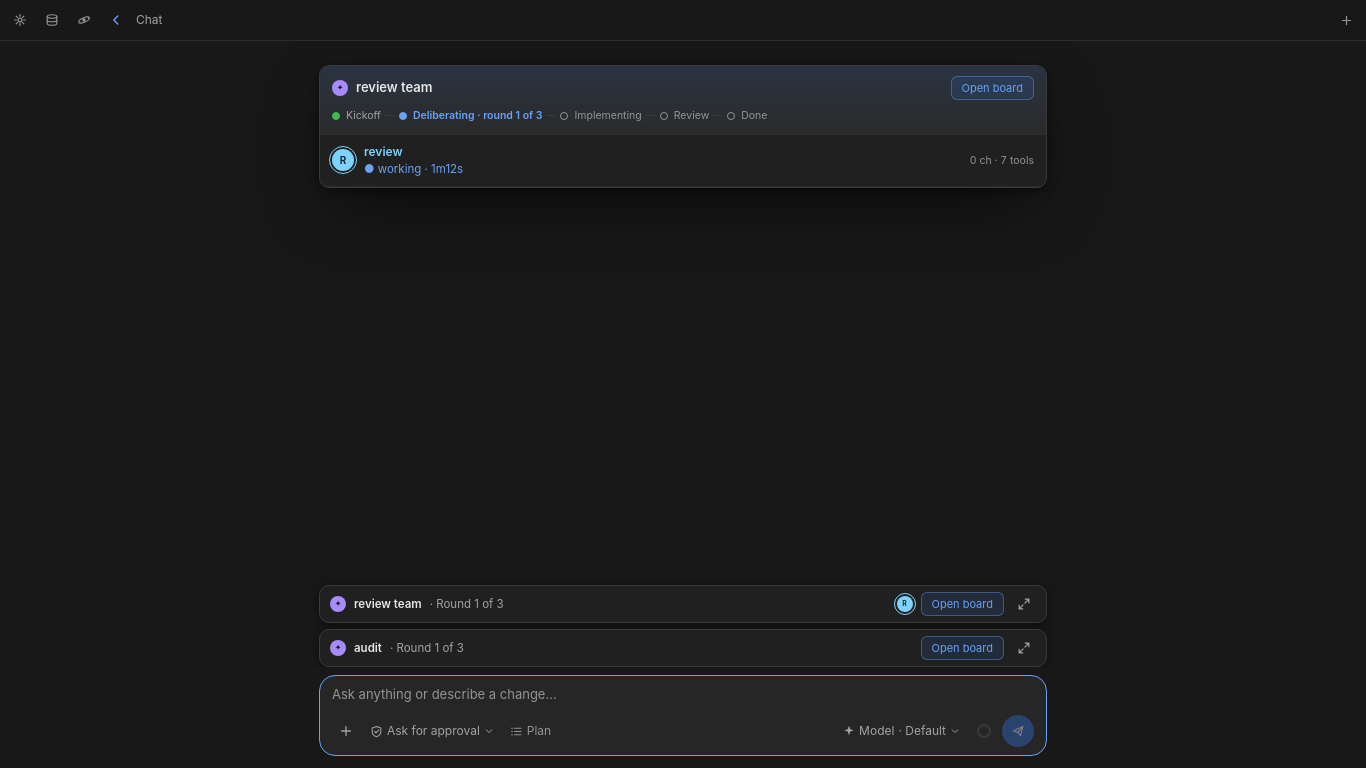
Test: Sub-agent windows above team members › shows a board explicitly opened from the child instead of hiding it behind the child
This screenshot has width=1366, height=768.
Click the 1st button "Open board".
click(992, 88)  # box 950,76 -> 1034,100
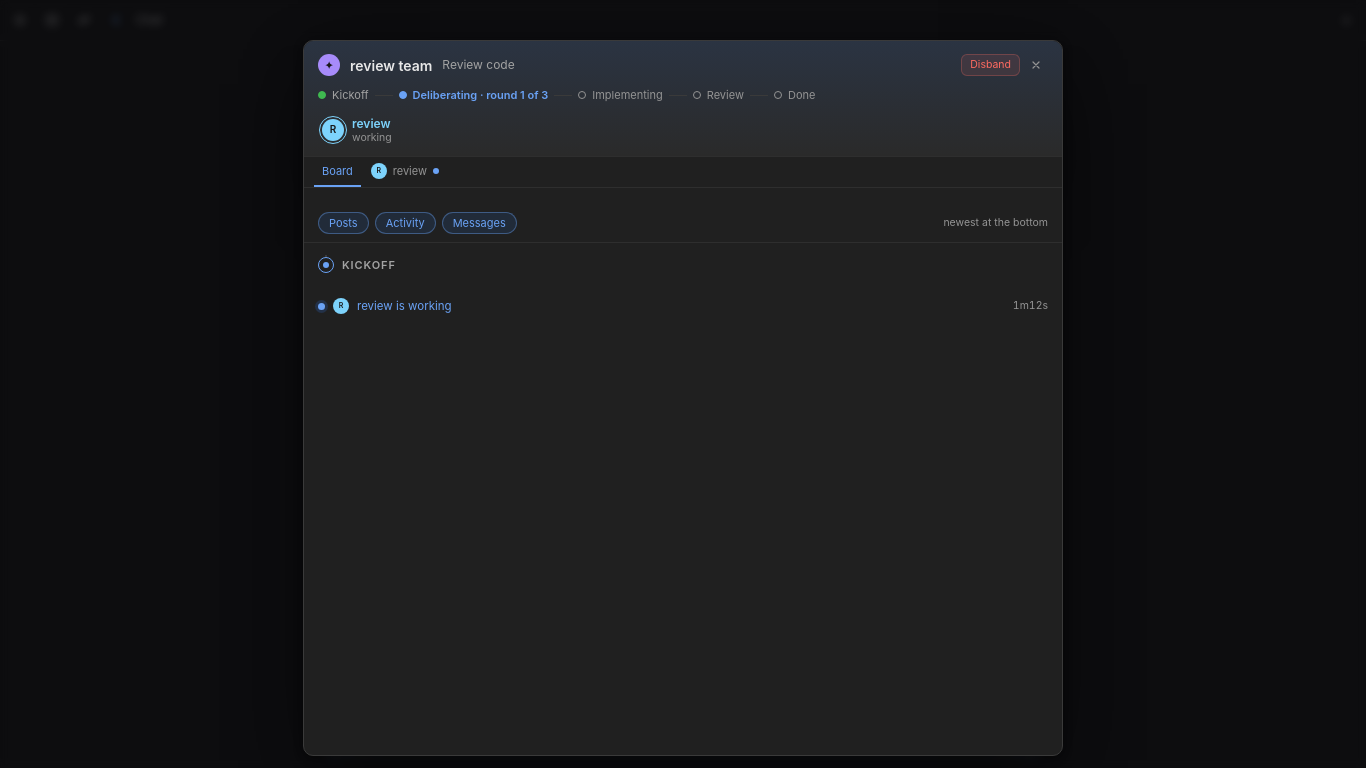
Click the tab "review".
click(405, 172)  # box 363,157 -> 447,187
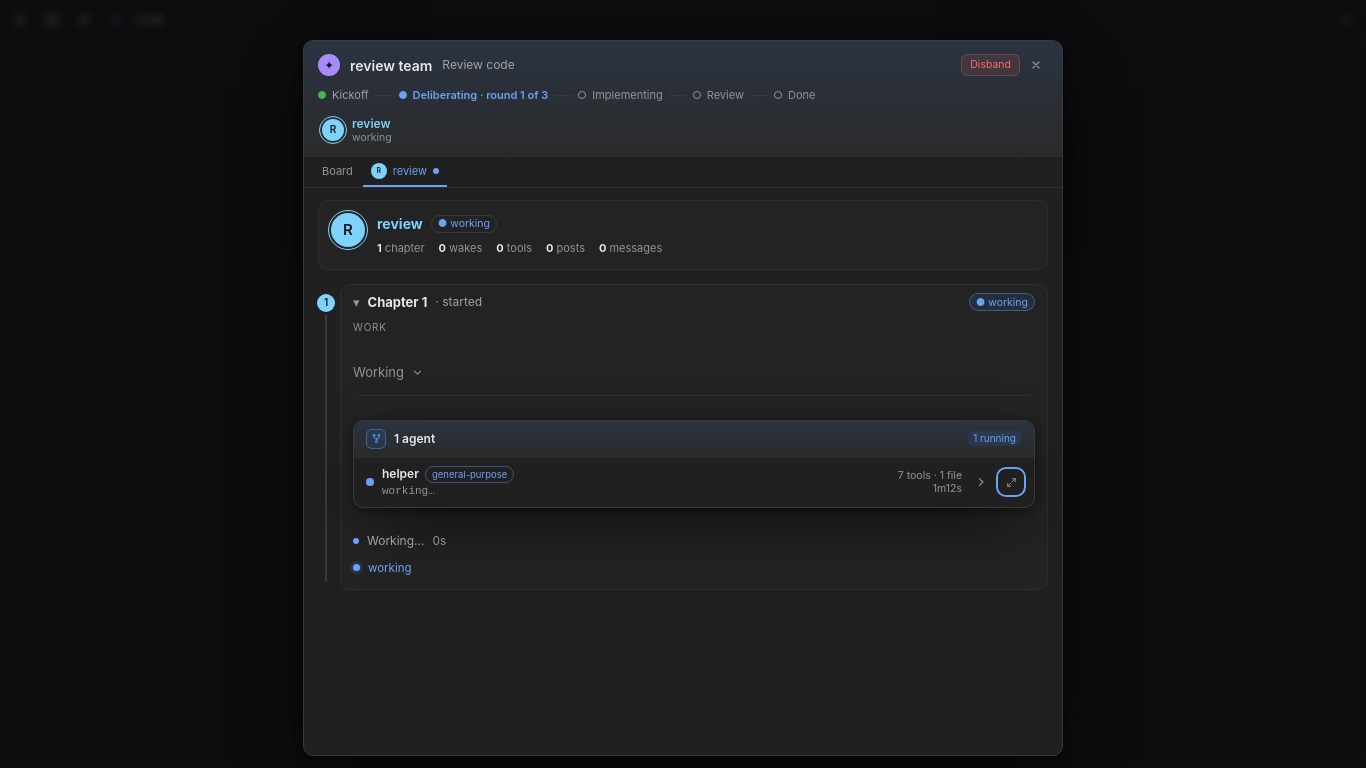
Click the button named "Open helper in a window".
click(1011, 482)  # box 1000,471 -> 1022,493
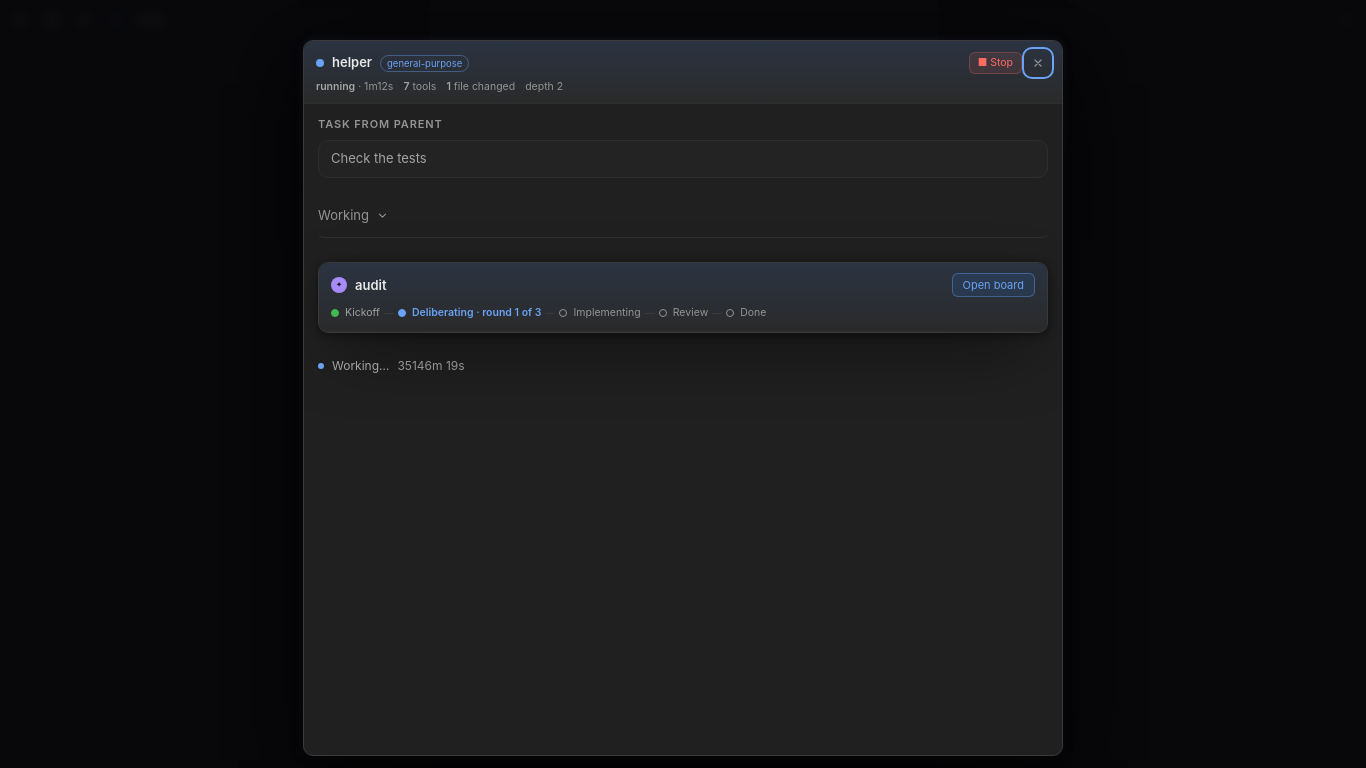
Click the button "Open board".
click(993, 285)  # box 952,273 -> 1035,297
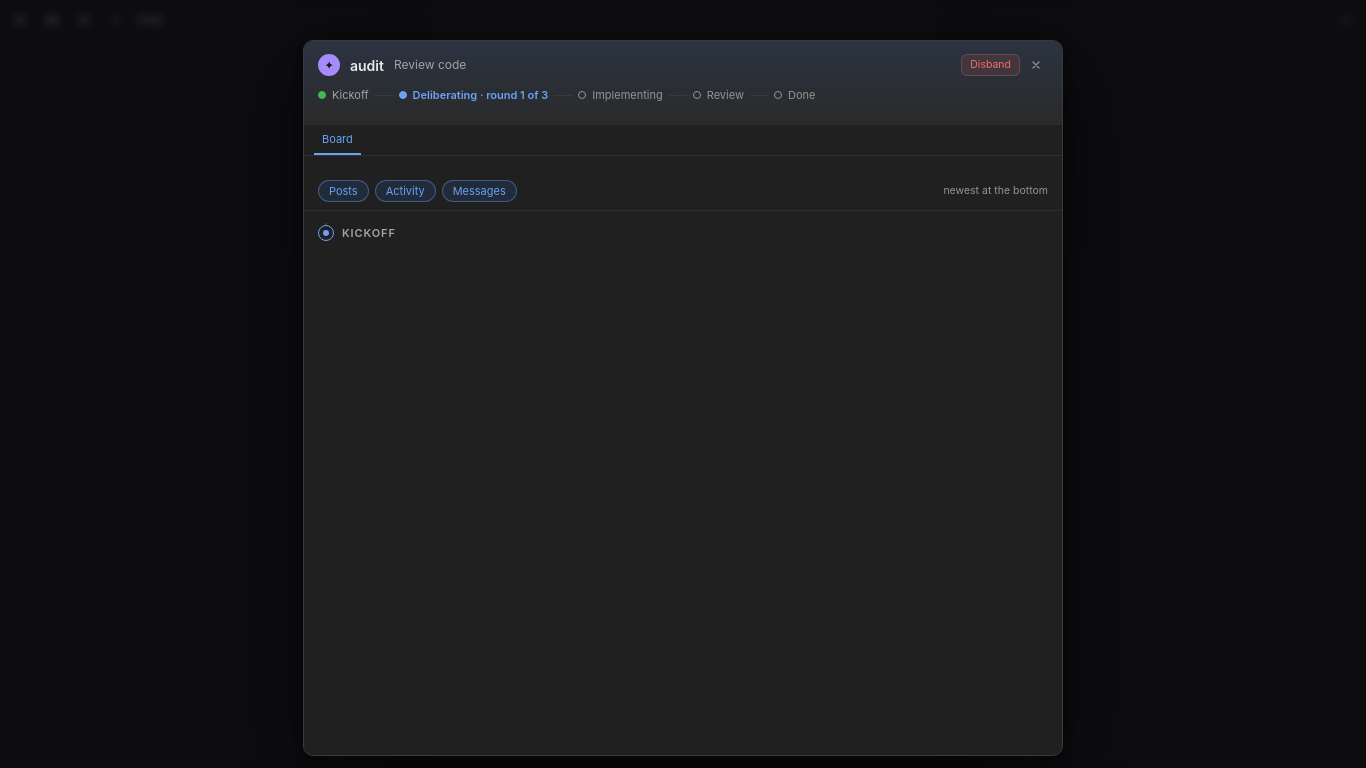
Now the dialog named "Team audit" is shown, box 303,40 -> 1063,756
